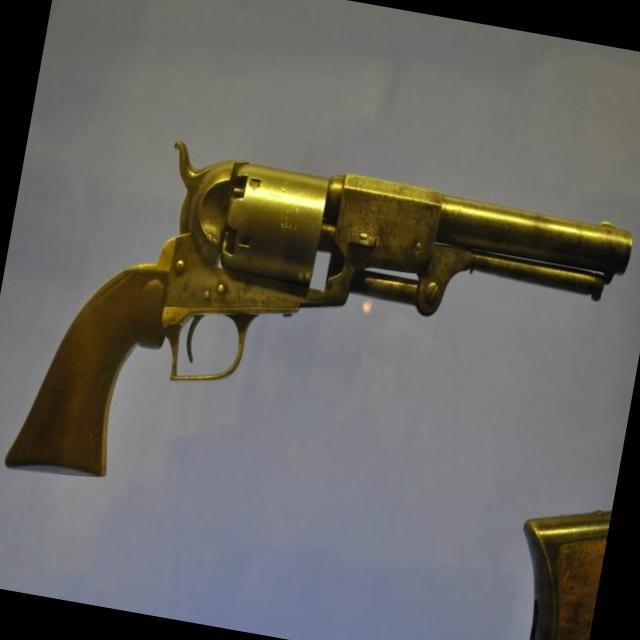Gun: (4, 143, 633, 479)
